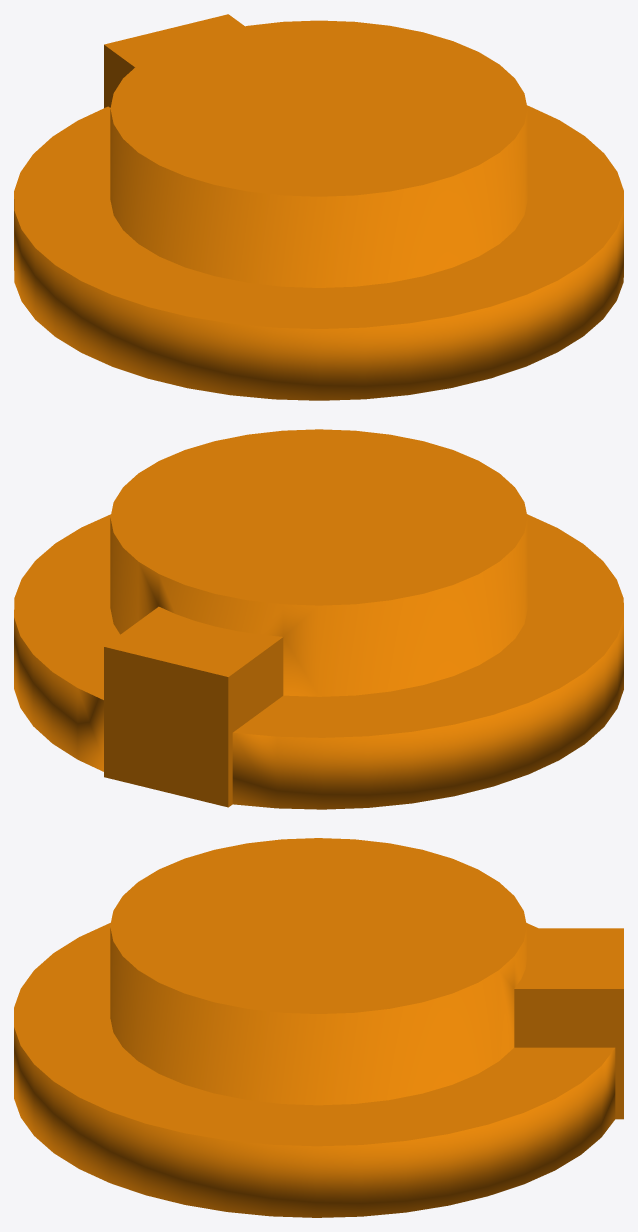
The picture shows the model from 3 angles, top to bottom: view 1: azimuth 30°, elevation 25°; view 2: azimuth 150°, elevation 25°; view 3: azimuth 270°, elevation 25°; orthographic projection.
Bounding box in the file's own units: 0.17 × 0.05 × 0.1698.
